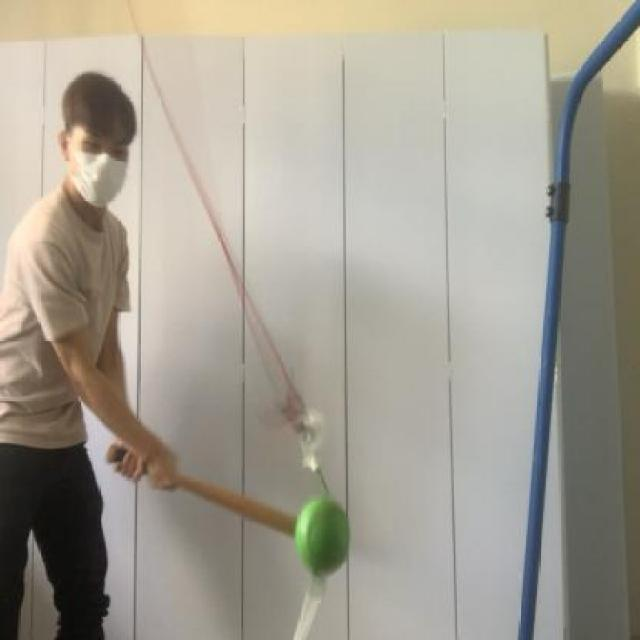baseball: (283, 482, 366, 595)
